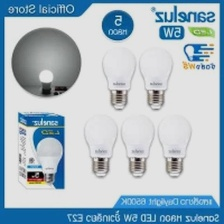carton: (15, 108, 67, 192)
light_bulb: (154, 110, 194, 181), (117, 110, 158, 179), (135, 43, 175, 111), (80, 111, 120, 179), (101, 43, 137, 112), (37, 66, 56, 98)
